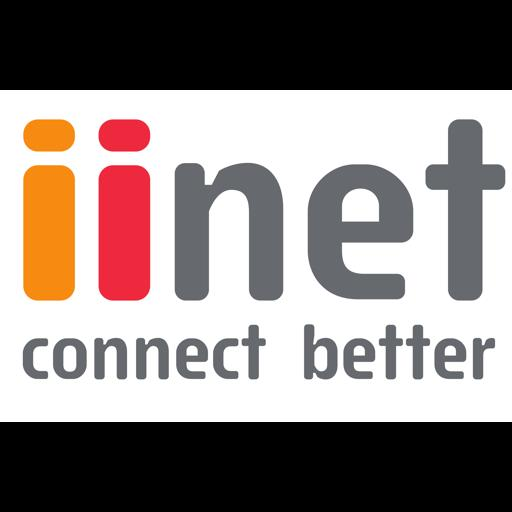iiNet Limited: (0, 90, 512, 422)
